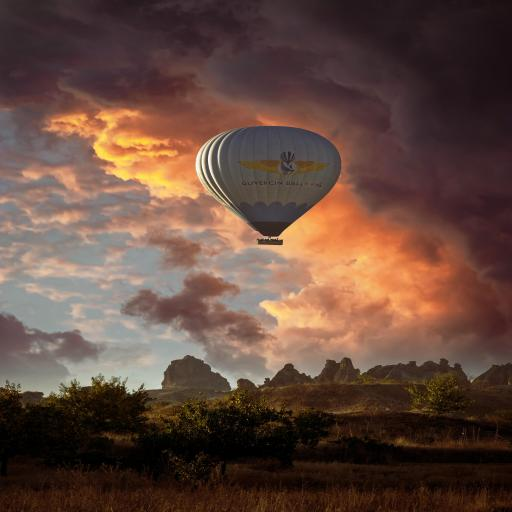hot air ballon: (196, 124, 344, 246)
